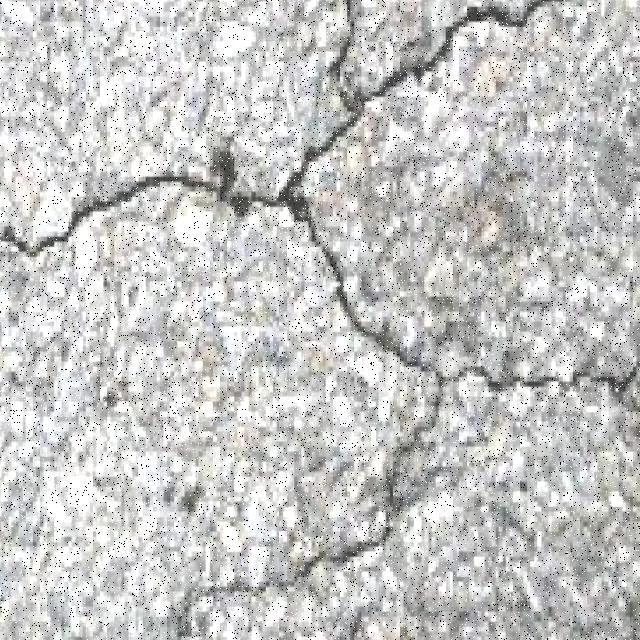Crack: (0, 0, 639, 587), (206, 581, 269, 597)
